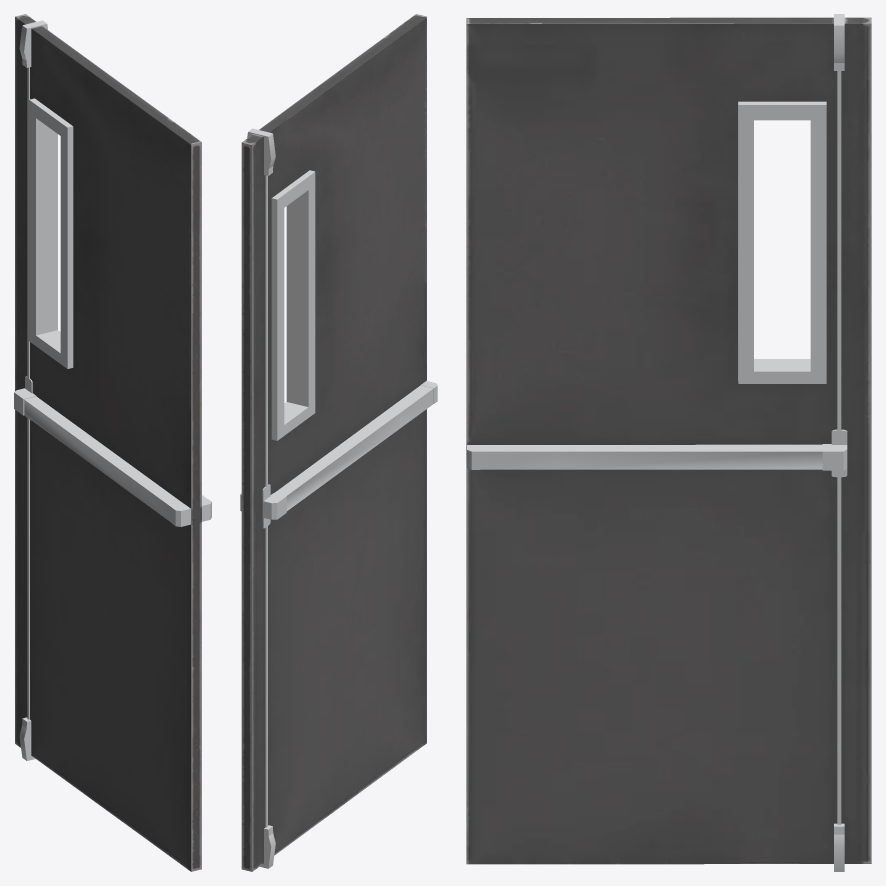
File: commercial_doors.glb
The picture shows the model from 3 angles, left to right: view 1: azimuth 30°, elevation 25°; view 2: azimuth 150°, elevation 25°; view 3: azimuth 270°, elevation 25°; orthographic projection. The views are drawn at different scales.
Visible parts, largest first — view 1: Cylinder.004_Material.001_0; view 2: Cylinder.004_Material.001_0; view 3: Cylinder.004_Material.001_0.
Boxes of the visible parts, bbox=[...] form: Cylinder.004_Material.001_0: bbox=[14, 14, 211, 871]; Cylinder.004_Material.001_0: bbox=[240, 14, 437, 871]; Cylinder.004_Material.001_0: bbox=[466, 14, 871, 871].
Bounding box in the file's own units: 0.2479 × 4.67 × 2.03.
2 materials, 1 textured.
